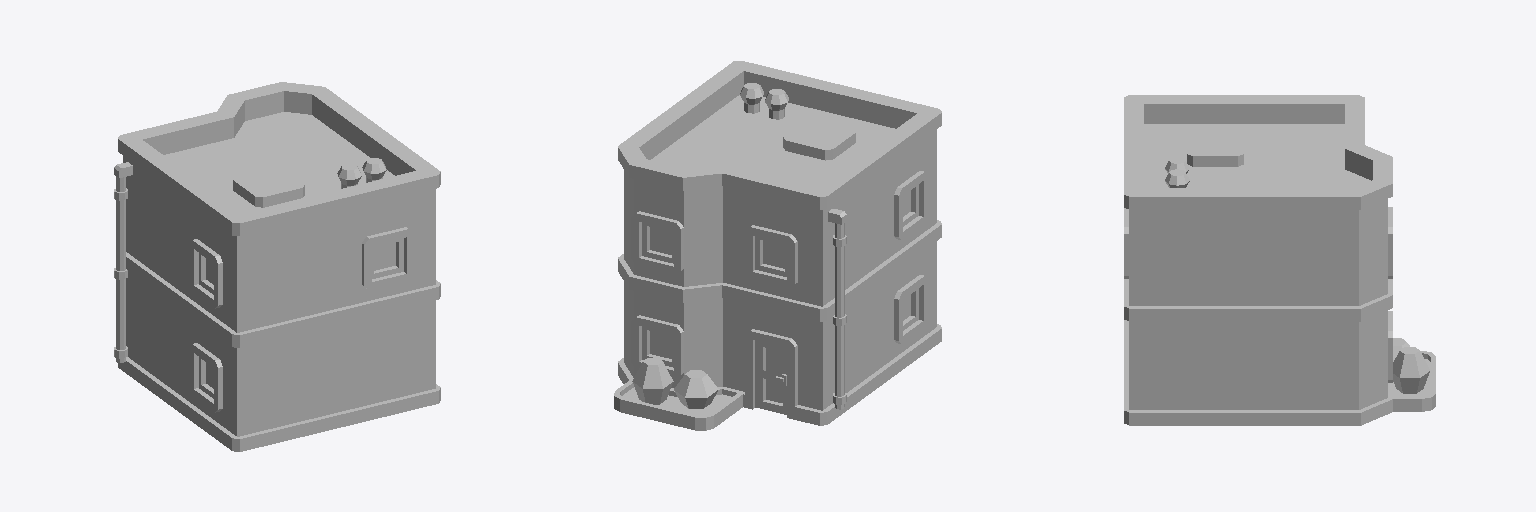
Rendered from commercial_building-c.obj.
3 views of the same model, side by side, from view 1: azimuth 30°, elevation 25°; view 2: azimuth 150°, elevation 25°; view 3: azimuth 270°, elevation 25° (orthographic).
Parts seen in each view (by area): view 1: building-c; view 2: building-c; view 3: building-c.
Boxes of the visible parts, <box> form: building-c: <box>114,82,440,451</box>; building-c: <box>614,61,941,430</box>; building-c: <box>1124,95,1435,425</box>.
Bounding box in the file's own units: 0.8836 × 0.893 × 1.09.